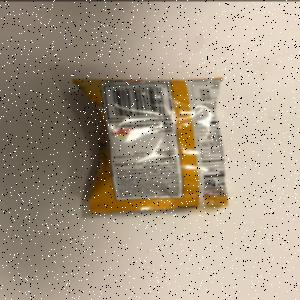Trash: (72, 77, 230, 217)
